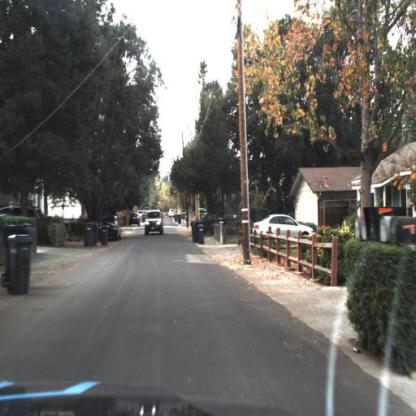car: (253, 210, 319, 243), (100, 216, 125, 243), (144, 208, 167, 237), (128, 212, 141, 228), (196, 208, 208, 224), (168, 208, 176, 220)
